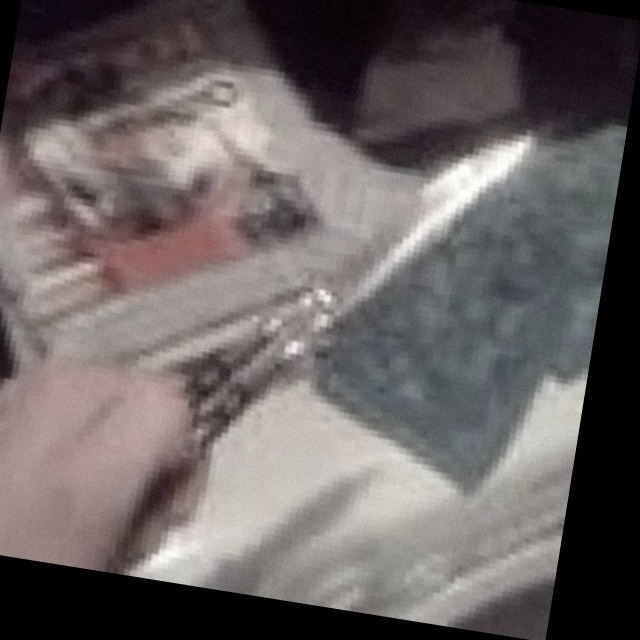Sharp-Object: (170, 92, 534, 527)
